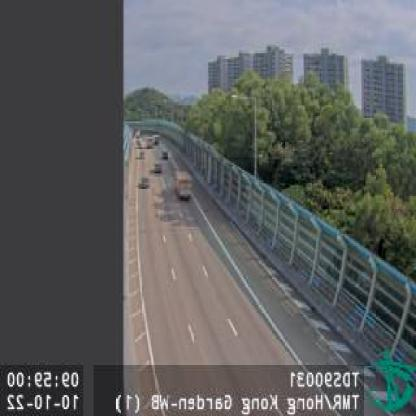Car: (140, 179, 150, 189), (151, 164, 160, 174)
Truck: (173, 167, 193, 201)
